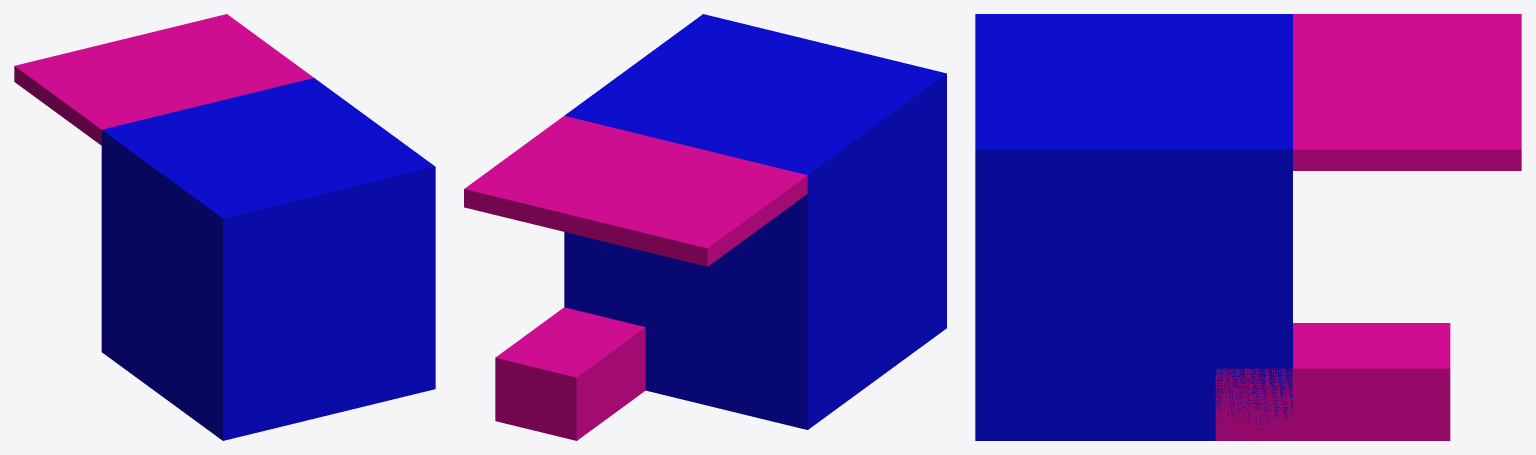
File: TuileCarree11.fbx
The picture shows the model from 3 angles, left to right: view 1: azimuth 30°, elevation 25°; view 2: azimuth 150°, elevation 25°; view 3: azimuth 270°, elevation 25°; orthographic projection. The views are drawn at different scales.
Parts seen in each view (by area): view 1: 1,1; view 2: 1,1; view 3: 1,1.
Boxes of the visible parts, x1,y1,x2,y2 form: 1,1: [14, 14, 435, 440]; 1,1: [464, 14, 946, 440]; 1,1: [975, 14, 1521, 440].
Bounding box in the file's own units: 100 × 100 × 170.
